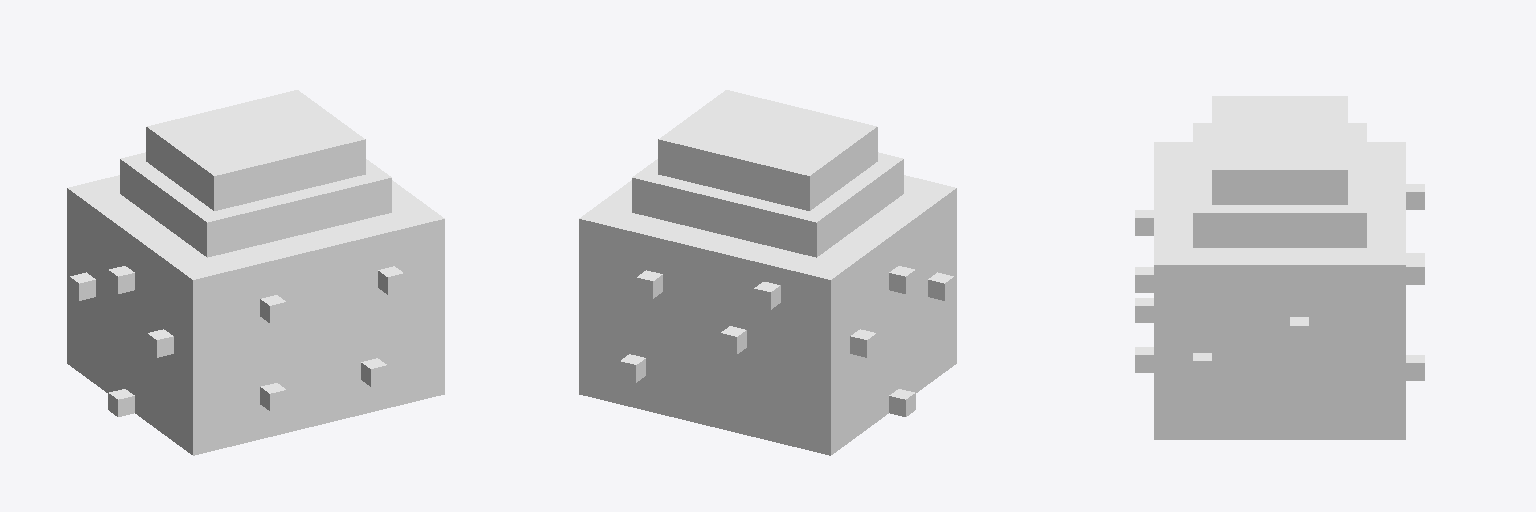
Rendered from BoxCaktus.obj.
3 views of the same model, side by side, from view 1: azimuth 30°, elevation 25°; view 2: azimuth 150°, elevation 25°; view 3: azimuth 270°, elevation 25° (orthographic).
Size of the model in its own units: 17 by 14 by 15.